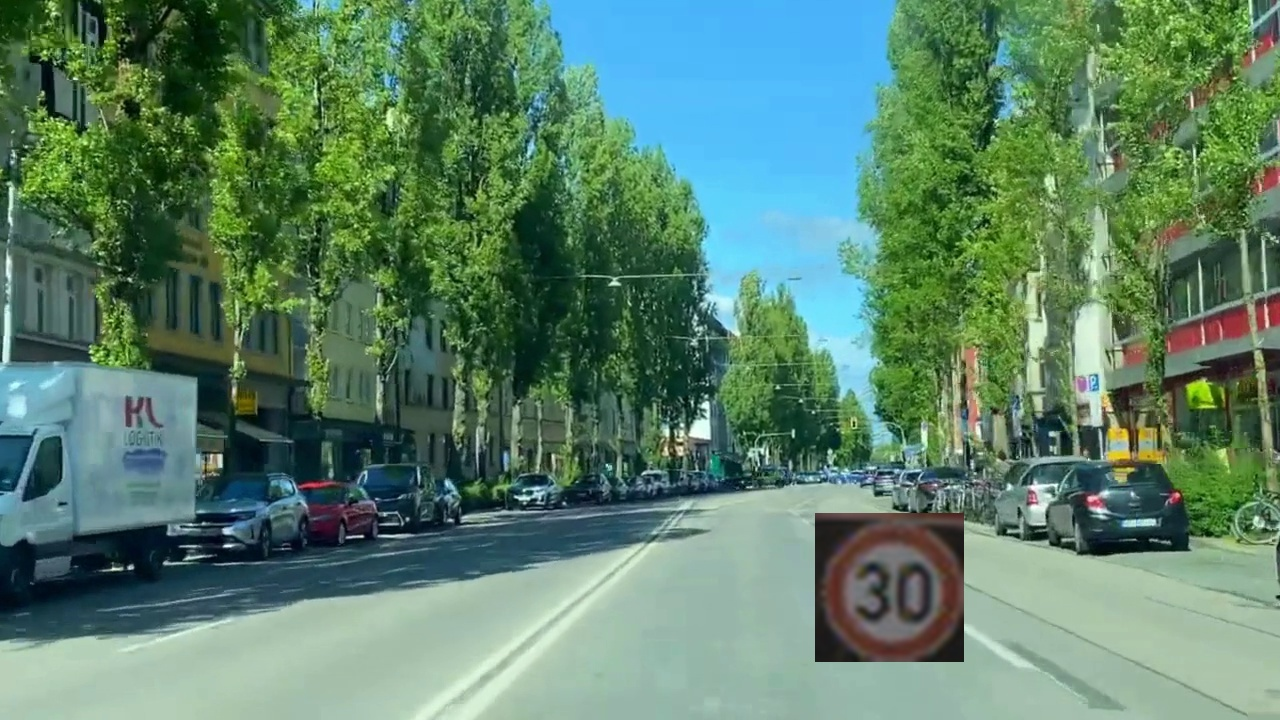Speed 30: (815, 513, 964, 662)
